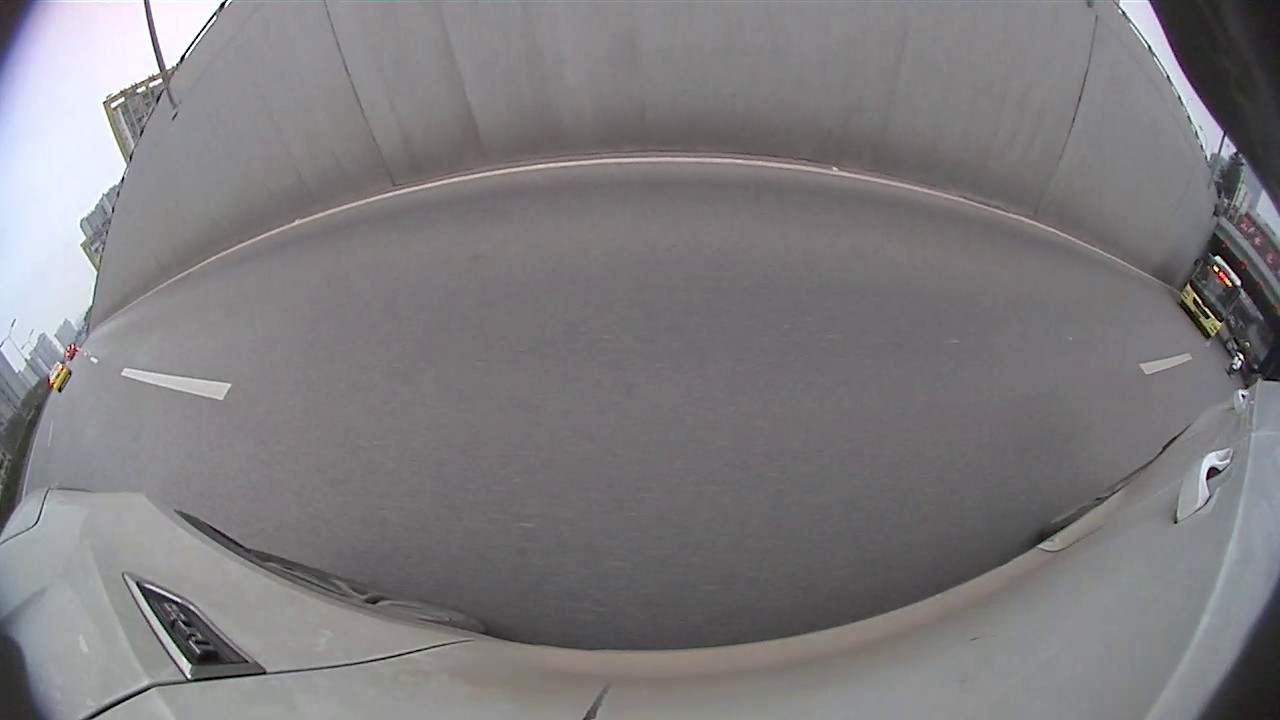bus: (818, 103, 1202, 321)
car: (0, 164, 432, 482), (794, 130, 1012, 264), (456, 137, 567, 216)
front: (381, 217, 422, 274), (794, 185, 813, 222)
rear: (102, 329, 207, 448), (997, 211, 1045, 265), (869, 200, 913, 257)
truck: (548, 2, 773, 216)
